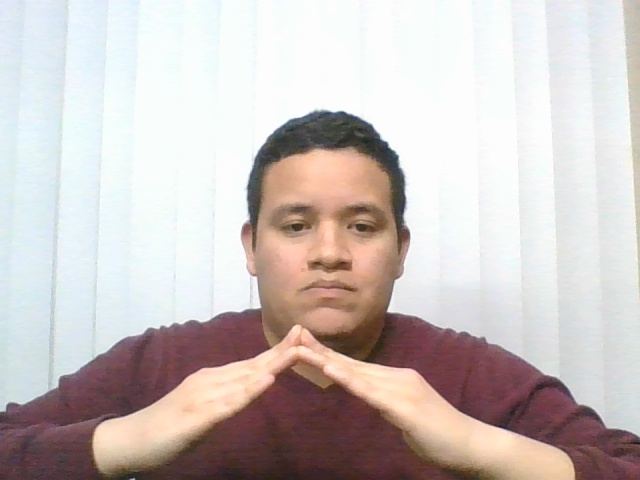House: (54, 283, 554, 476)
